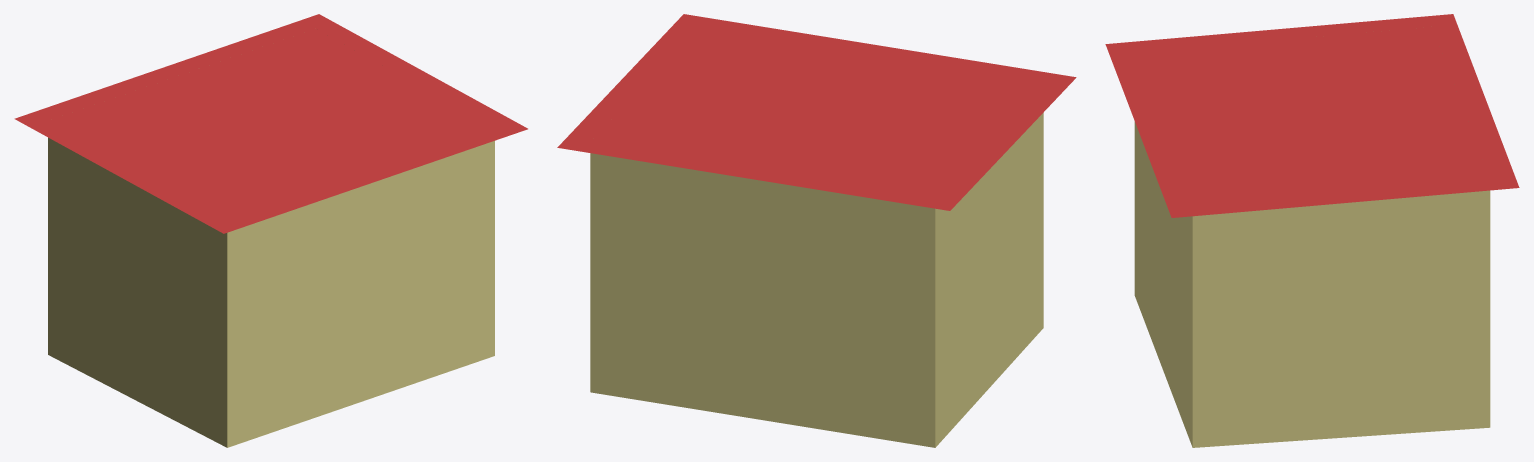
3 renders of one model, left to right at view 1: azimuth 30°, elevation 25°; view 2: azimuth 150°, elevation 25°; view 3: azimuth 270°, elevation 25°, orthographic. The views are drawn at different scales.
Bounding box in the file's own units: 9.22 × 8.16 × 5.41.
